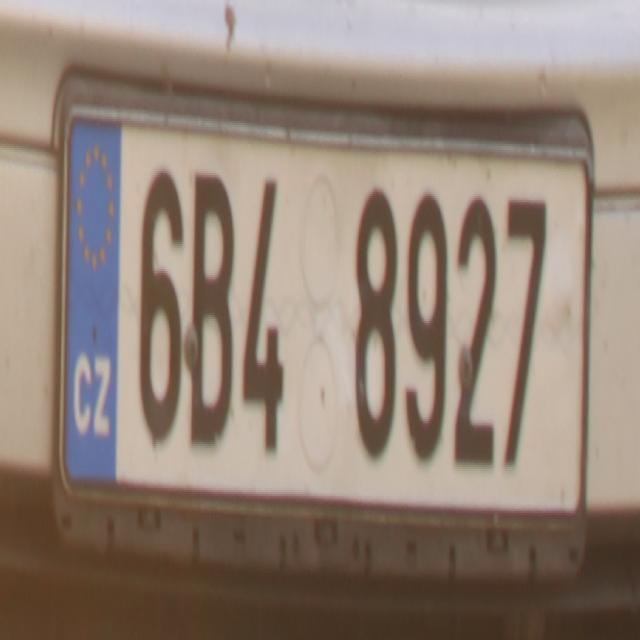2: (452, 179, 498, 471)
4: (240, 165, 286, 468)
6: (136, 156, 183, 442)
7: (504, 184, 550, 484)
8: (353, 179, 399, 459)
9: (402, 181, 448, 467)
B: (189, 164, 235, 444)
